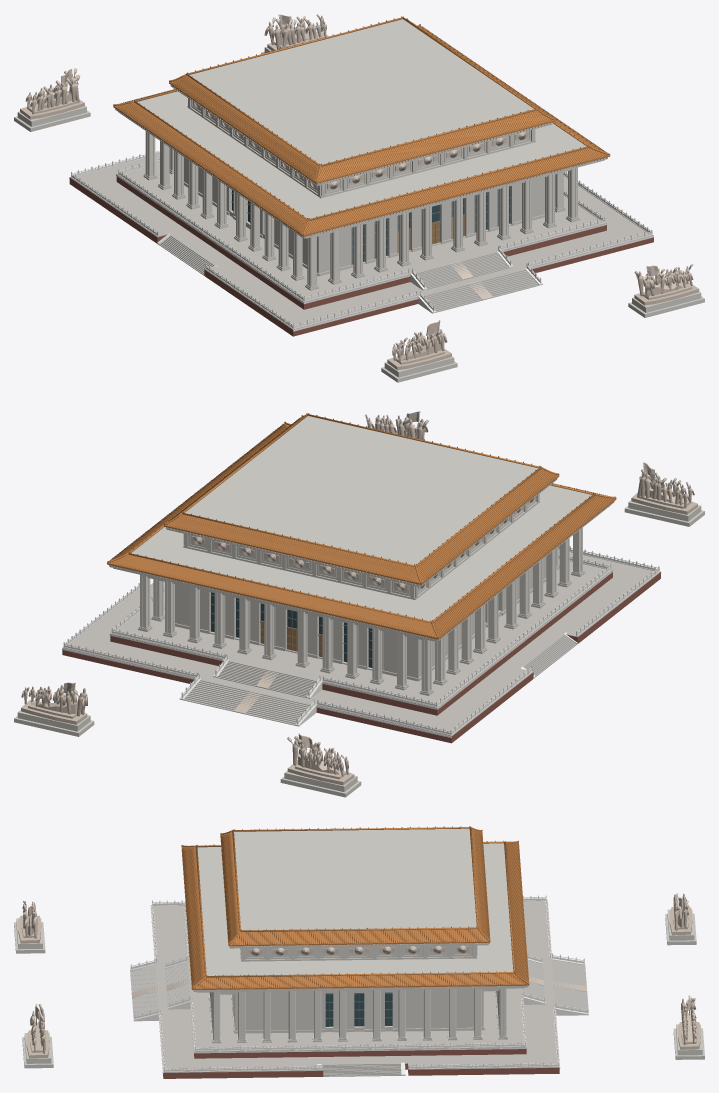
The model's file is mao-mausoleum.glb.
3 renders of one model, top to bottom at view 1: azimuth 30°, elevation 25°; view 2: azimuth 150°, elevation 25°; view 3: azimuth 270°, elevation 25°, orthographic. The views are drawn at different scales.
Parts seen in each view (by area): view 1: mao-mausoleum; view 2: mao-mausoleum; view 3: mao-mausoleum.
Boxes of the visible parts, x1,y1,x2,y2 form: mao-mausoleum: [14, 14, 704, 382]; mao-mausoleum: [14, 411, 704, 797]; mao-mausoleum: [14, 826, 704, 1078].
Size of the model in its own units: 108 by 33.6 by 183.
